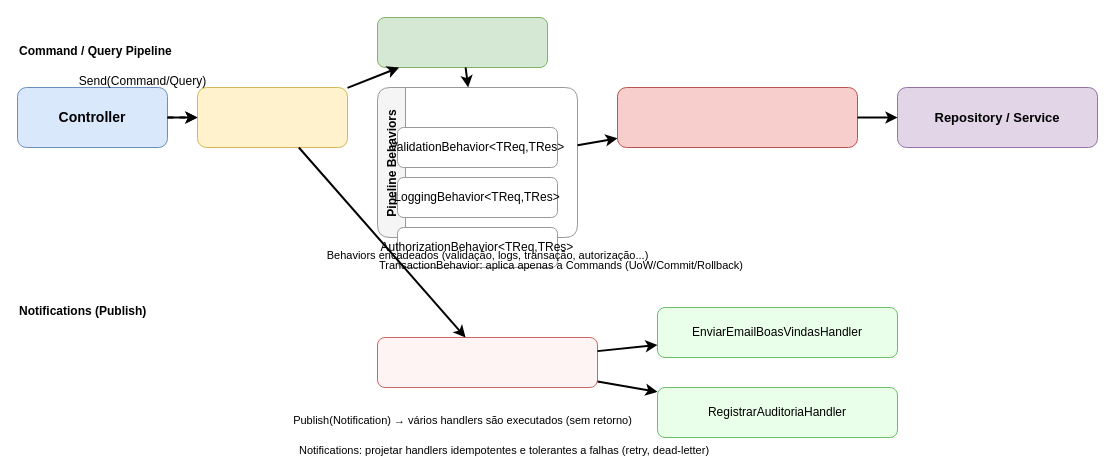
The diagram is 1115 pixels wide and 475 high, and some of its shapes have lost their labels. Each missing label, with the centre of its shape:
"Command / Query" belongs at (x=462, y=42).
"Handler (CommandHandler / QueryHandler)" belongs at (x=737, y=117).
"IMediator" belongs at (x=272, y=117).
"UsuarioCriadoNotification" belongs at (x=487, y=362).
